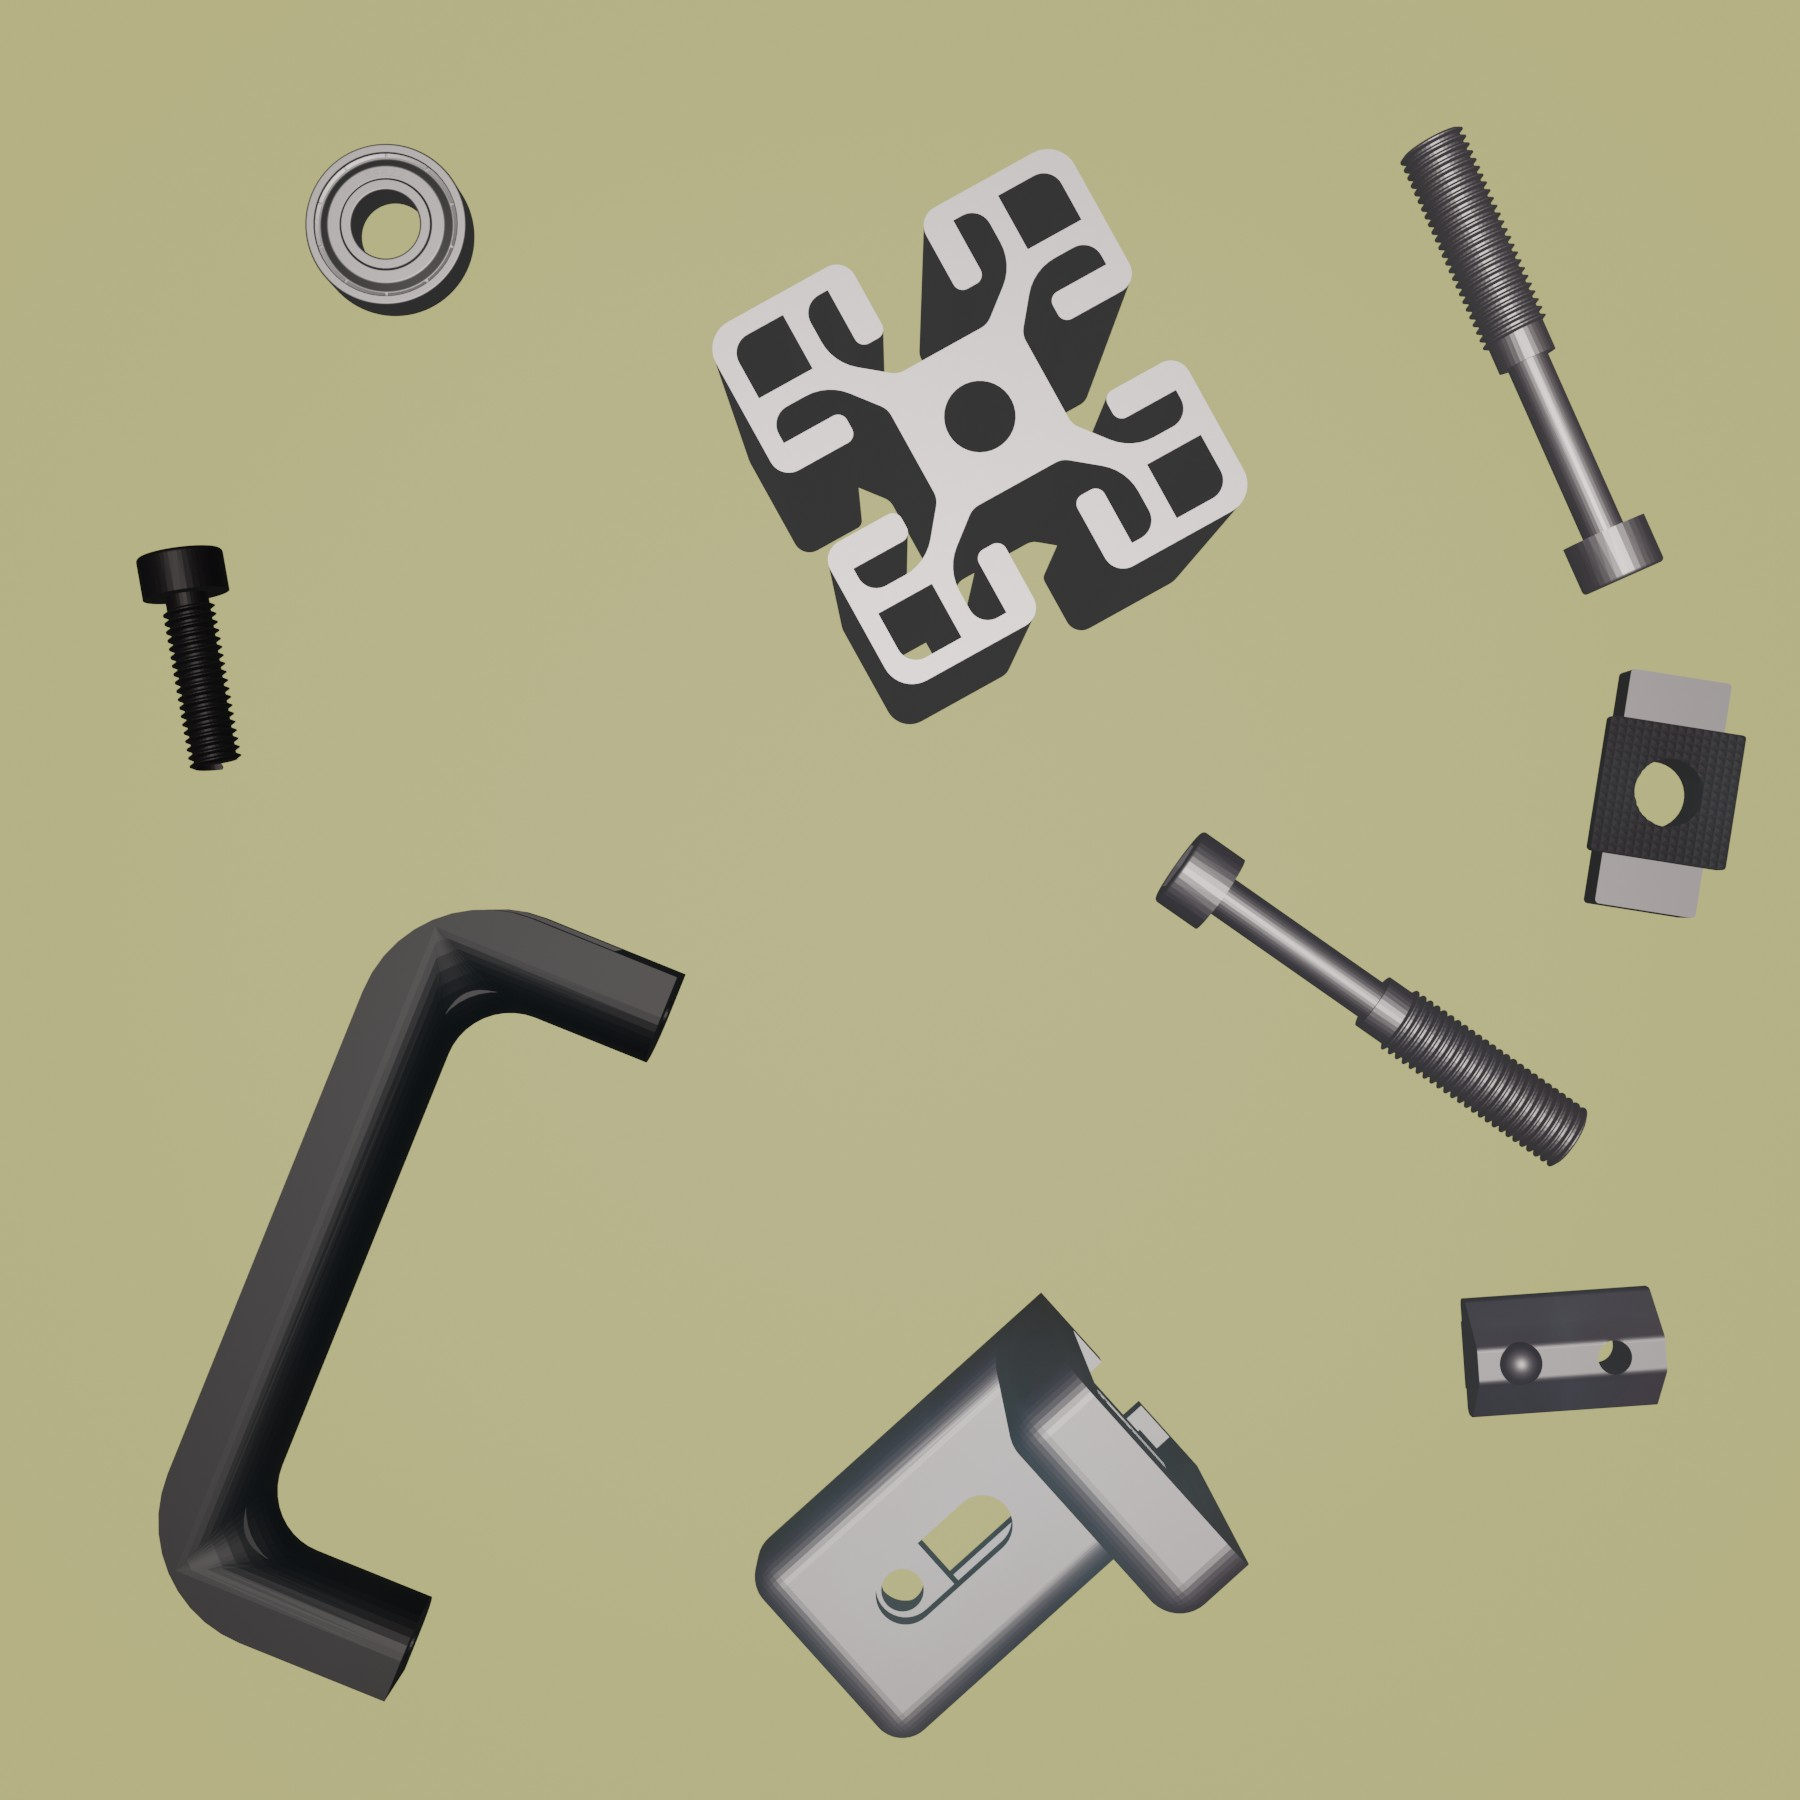Aluminium Extension: (709, 145, 1253, 725)
Ball Bearing: (302, 142, 476, 318)
Multiwinkel: (752, 1291, 1253, 1741)
Pull Handle: (157, 903, 686, 1704)
Shoulder Socket Head Cap Screw: (1152, 831, 1589, 1170), (1398, 122, 1666, 598)
Socket Head Cap Screw: (132, 542, 244, 775)
T Nut Square: (1579, 664, 1751, 923)
T Spring Nut: (1459, 1277, 1670, 1423)
